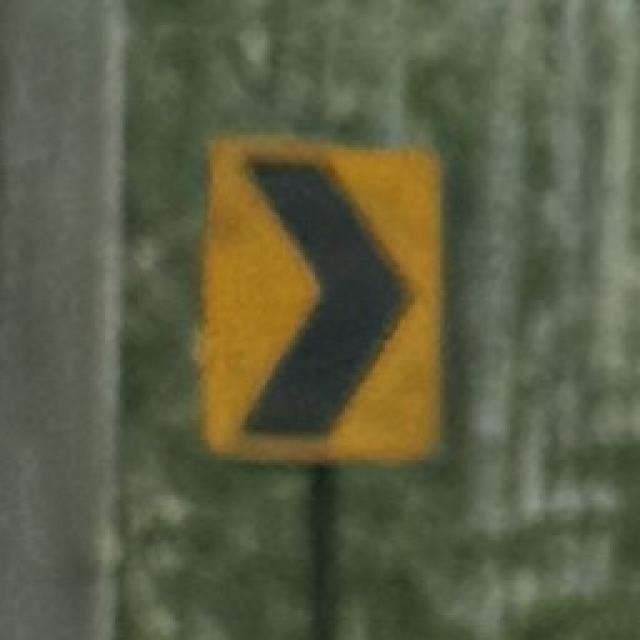TURN_RIGHT: (198, 132, 450, 466)
